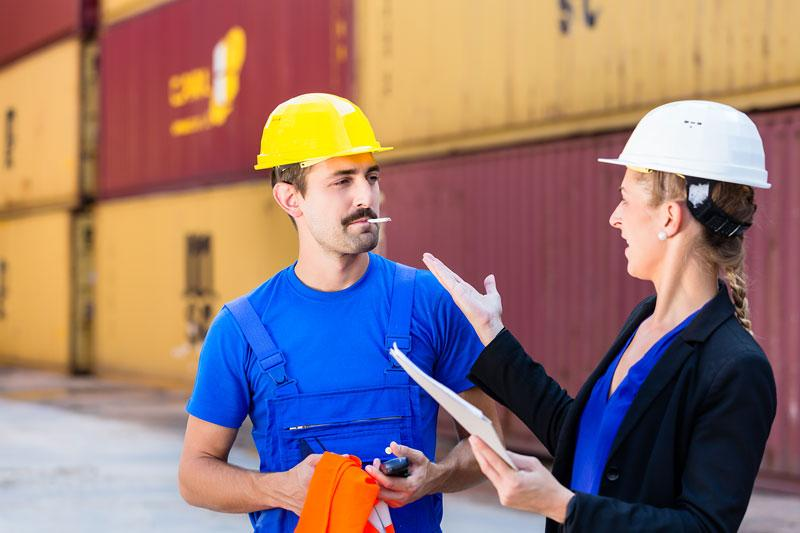smoke: (365, 218, 393, 225)
